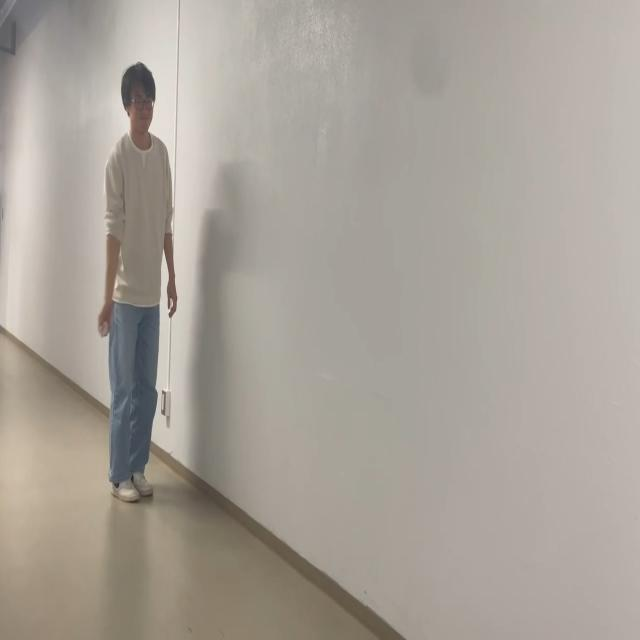paper: (98, 318, 110, 340)
